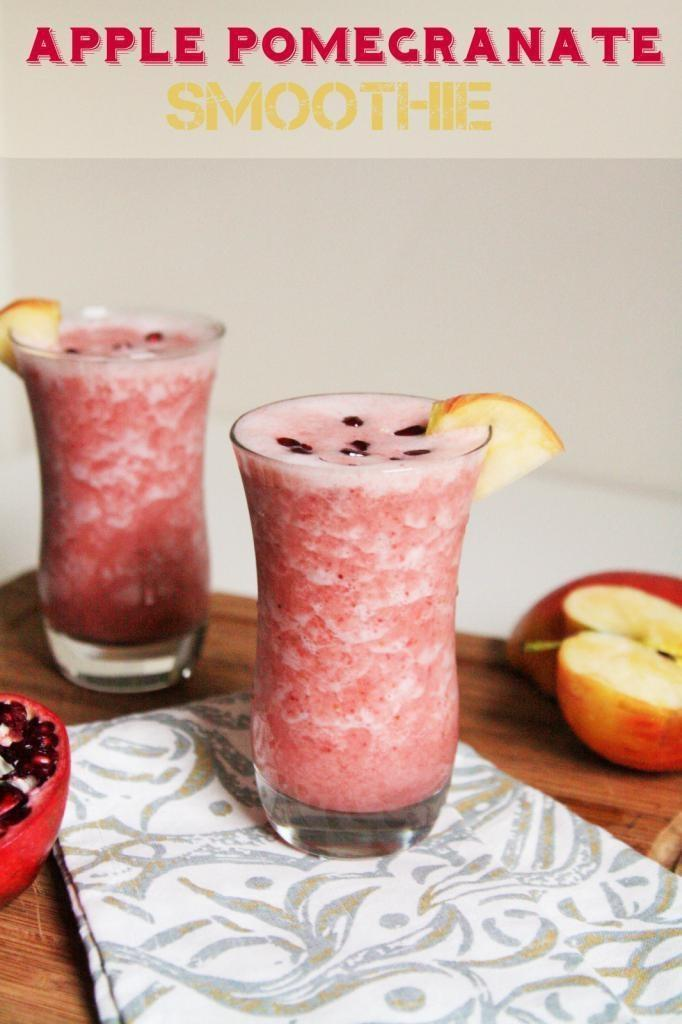glass-normal: (229, 390, 487, 861), (5, 303, 227, 694)
